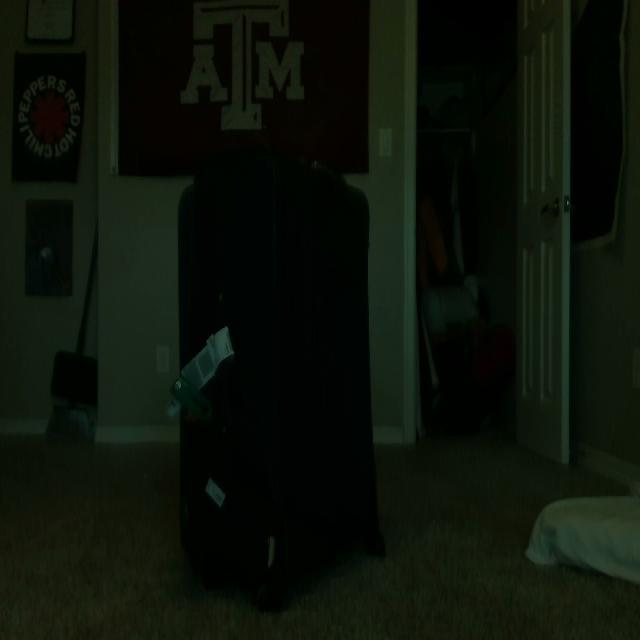suitcase: (173, 148, 385, 606)
